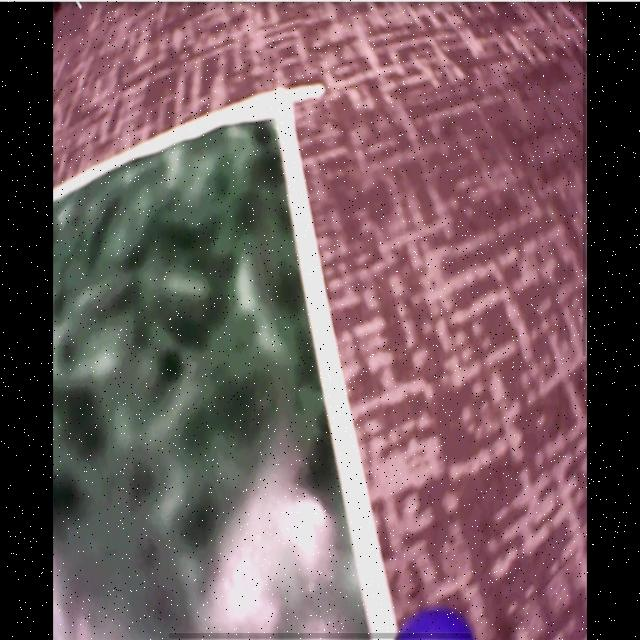ball: (397, 614, 471, 640)
